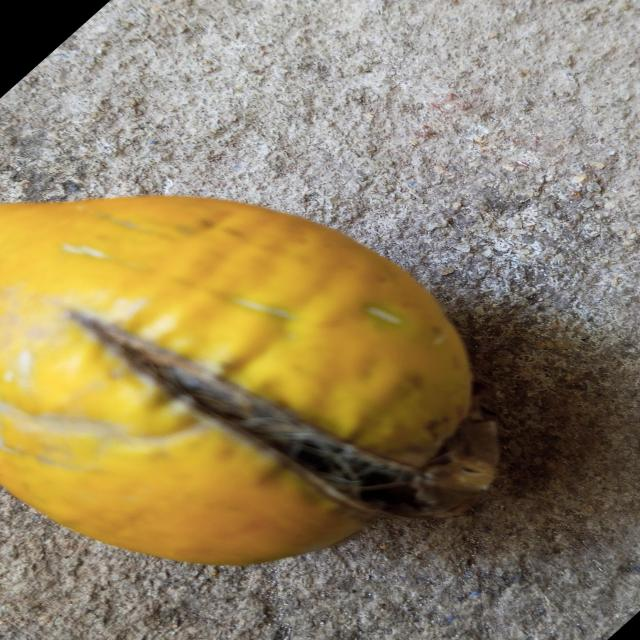damaged: (0, 197, 499, 565)
